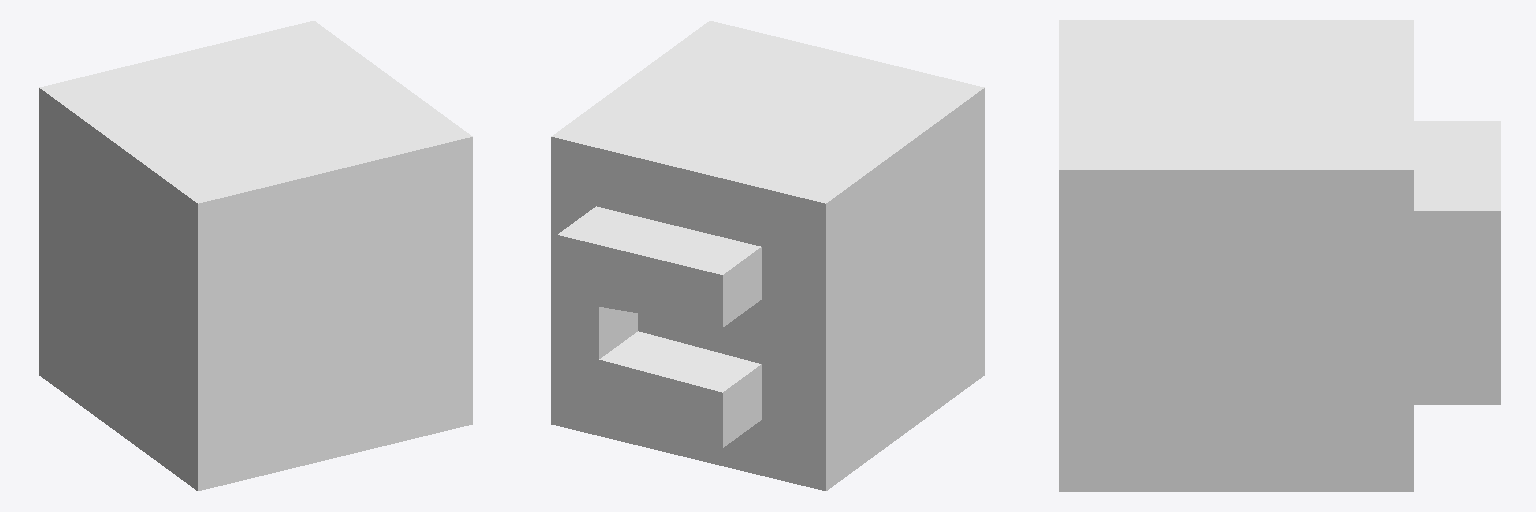
The robot description file, URDF, robot "U_cube_cap_preprocessed_convex":
<?xml version="1.0" ?>
<robot name="U_cube_cap_preprocessed_convex">
  <link name="baseLink">
    <contact>
    	<friction_anchor/>
    	   <lateral_friction value="1.0"/>
    </contact>
    <inertial>
      <origin rpy="0 0 0" xyz="0 0 0"/>
       <!-- mass controls penetration -->
       <mass value=".5"/>
       <inertia ixx="1e-4" ixy="0" ixz="0" iyy="1e-4" iyz="0" izz="1e-4"/>
    </inertial>
    <visual>
      <origin rpy="0 0 0" xyz="0 0 0"/>
      <geometry>
        <mesh filename="U_cube_cap_preprocessed_convex.obj"/>
      </geometry>
       <material name="white">
        <color rgba="1 1 1 1"/>
      </material>
    </visual>
    <collision>
      <origin rpy="0 0 0" xyz="0 0 0"/>
      <geometry>
        <mesh filename="U_cube_cap_preprocessed_convex.obj"/>
      </geometry>
    </collision>
  </link>
</robot>

--- Render facts (derived) ---
Views: 3 orthographic renders of the robot side by side, from view 1: azimuth 30°, elevation 25°; view 2: azimuth 150°, elevation 25°; view 3: azimuth 270°, elevation 25°.
Robot: U_cube_cap_preprocessed_convex — 1 links, 0 joints (none); root link baseLink; default pose: every joint at zero.
Visible links, largest first — view 1: baseLink; view 2: baseLink; view 3: baseLink.
Link boxes in pixels (x1,y1,x2,y2): baseLink: (39, 21, 472, 490); baseLink: (551, 21, 984, 490); baseLink: (1059, 20, 1500, 491).
Size in the robot's own frame: 0.081 by 0.1008 by 0.081 metres.
Meshes: 1 distinct files referenced, 1 mesh visuals loaded (1 OBJ).